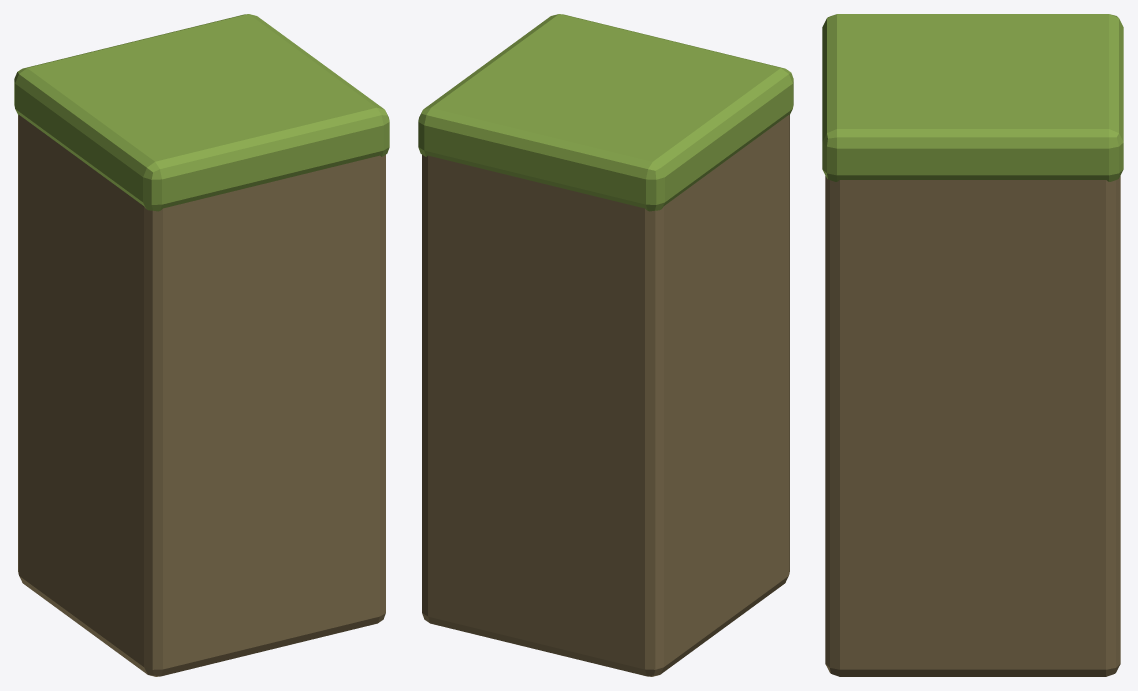
File: SM_Platform_1m_01_C.fbx
The picture shows the model from 3 angles, left to right: view 1: azimuth 30°, elevation 25°; view 2: azimuth 150°, elevation 25°; view 3: azimuth 270°, elevation 25°; orthographic projection. The views are drawn at different scales.
Parts seen in each view (by area): view 1: polySurface69; view 2: polySurface69; view 3: polySurface69.
Boxes of the visible parts, x1=… form: polySurface69: x1=14, y1=14, x2=389, y2=676; polySurface69: x1=418, y1=14, x2=793, y2=676; polySurface69: x1=822, y1=14, x2=1123, y2=676.
Bounding box in the file's own units: 102 × 205 × 102.
